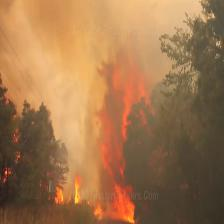fire: (0, 83, 224, 224)
smoke: (1, 2, 224, 80), (0, 0, 96, 161), (86, 50, 165, 224)
